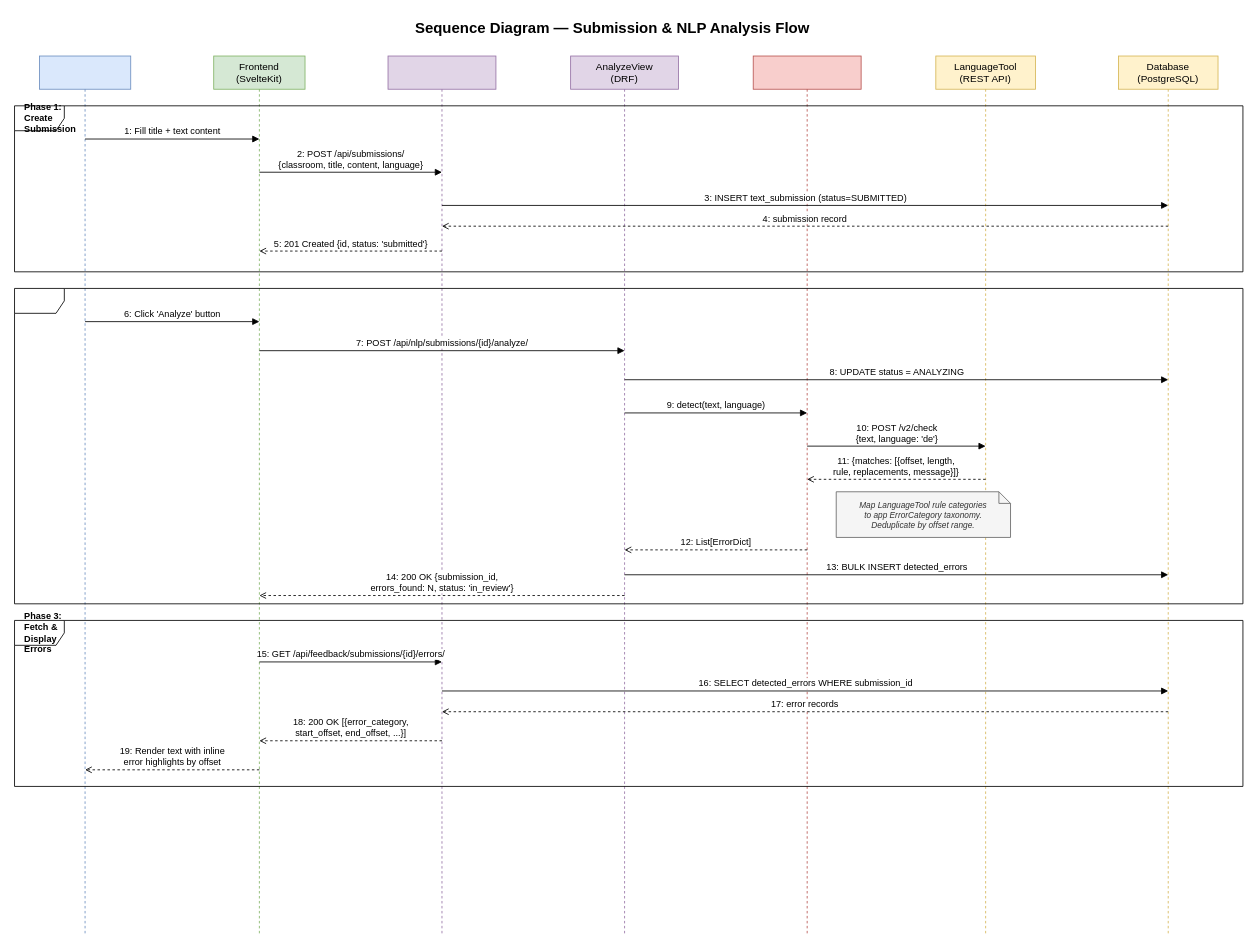
Some shapes in this 1257 by 950 pixel diagram are drawn without their labels. Each missing label, with the box of its shape:
ErrorDetection Service: (752, 55, 861, 936)
Phase 2: NLP Analysis: (14, 288, 1243, 604)
Student (Browser): (39, 55, 131, 936)
SubmissionView (DRF): (387, 55, 496, 936)
